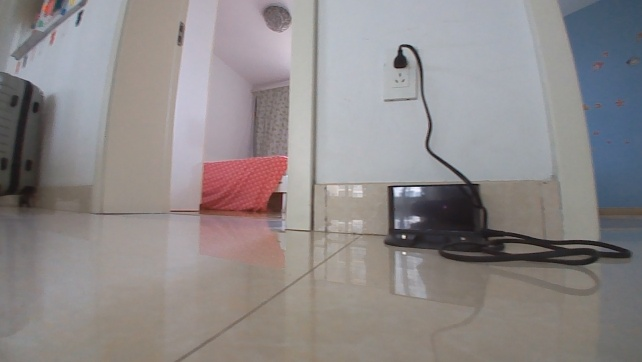bed1: (198, 152, 290, 214)
charger: (381, 181, 486, 250)
wire: (396, 40, 472, 182), (435, 227, 634, 267)
